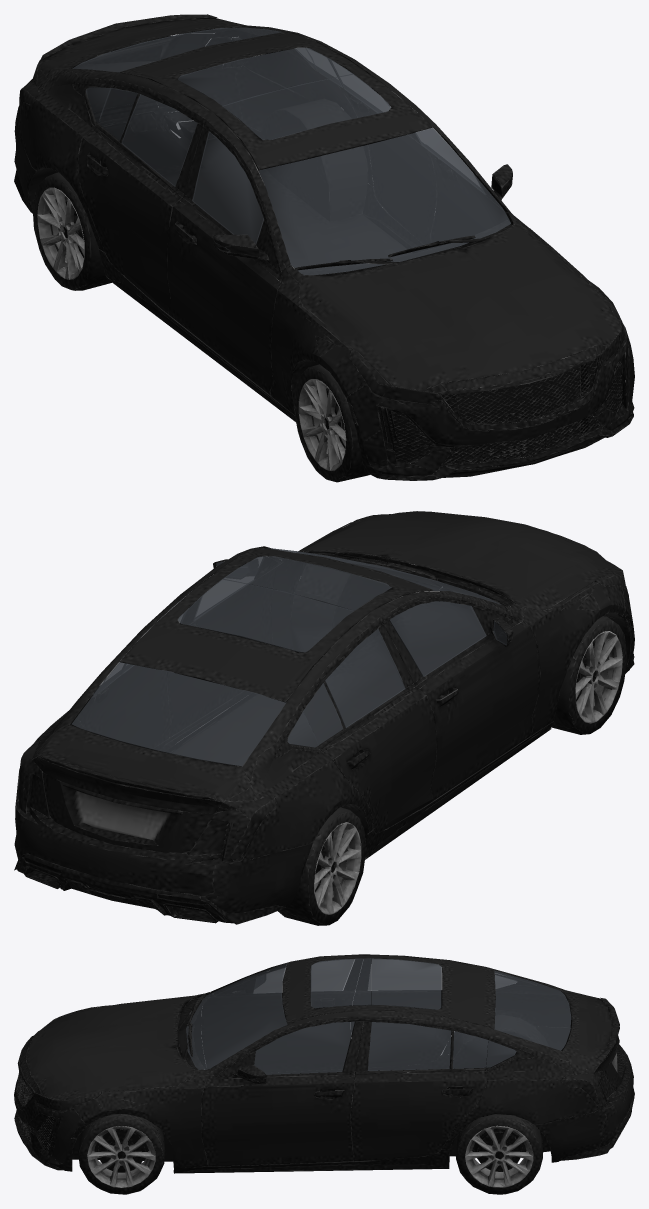
The model's file is car_sedan_hd.glb.
The picture shows the model from 3 angles, top to bottom: view 1: azimuth 30°, elevation 25°; view 2: azimuth 150°, elevation 25°; view 3: azimuth 270°, elevation 25°; orthographic projection. The views are drawn at different scales.
Parts seen in each view (by area): view 1: SM_Car; view 2: SM_Car; view 3: SM_Car.
Part boxes in pixels (<box>): SM_Car: <box>14,14,634,482</box>; SM_Car: <box>14,511,634,925</box>; SM_Car: <box>14,954,634,1194</box>.
Size of the model in its own units: 1.98 by 1.49 by 4.98.
2 materials, 1 textured.
